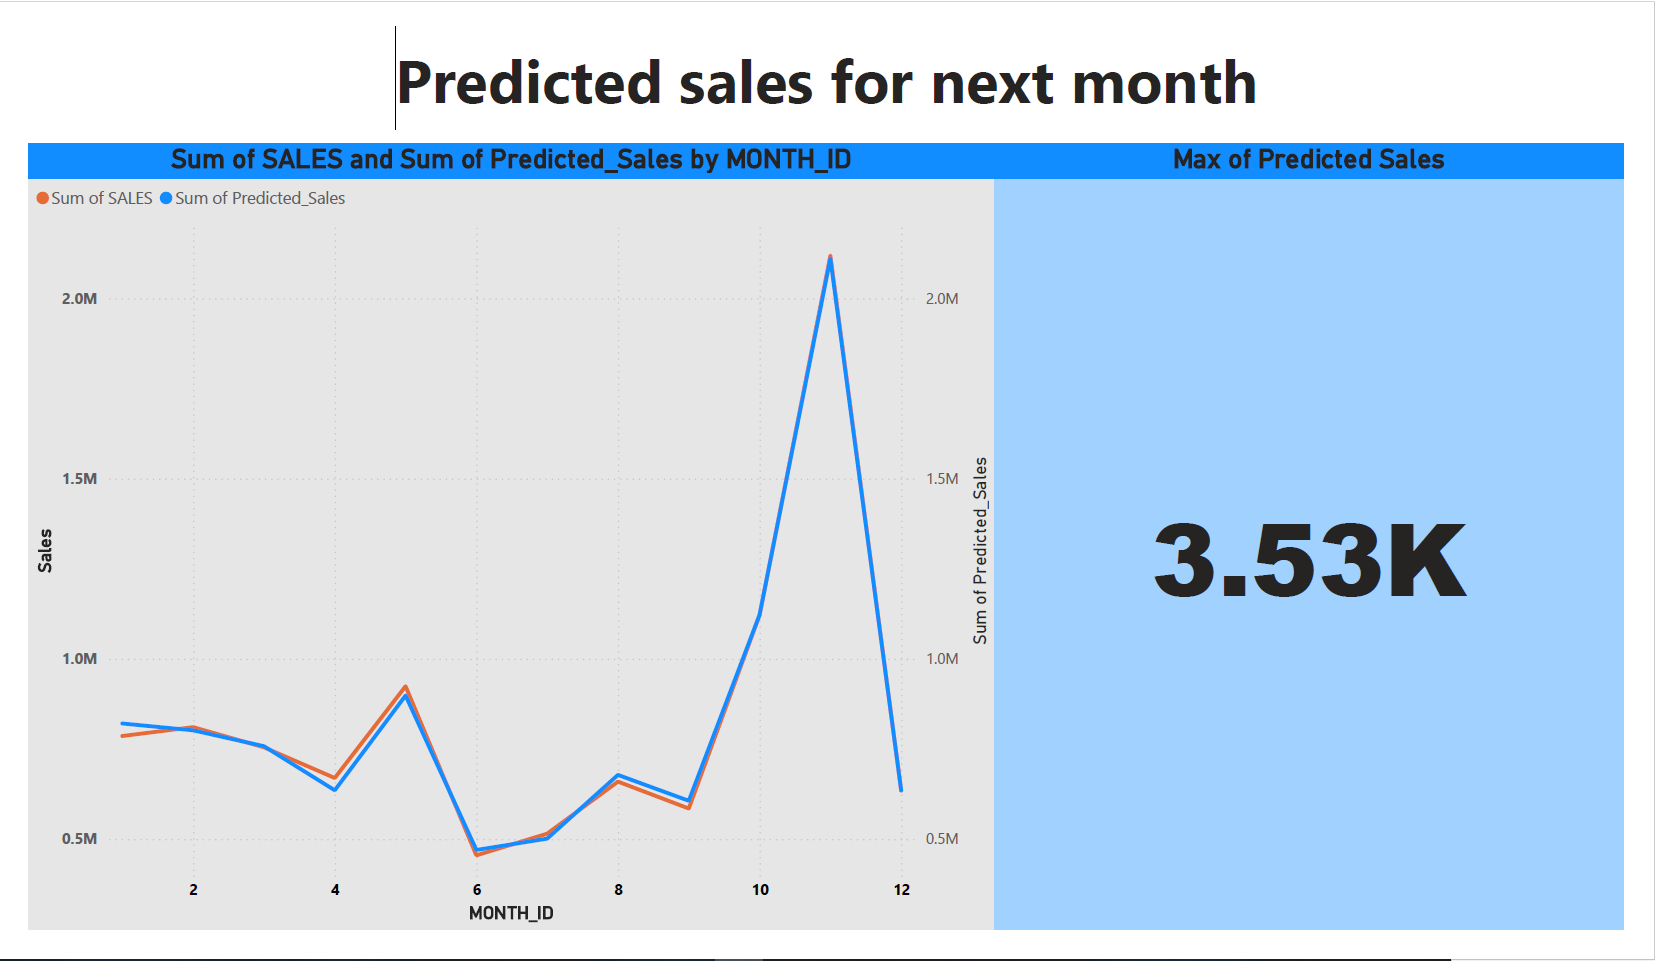

Layout of this report page (visuals, bound fields, positions):
{"tool":"powerbi","page":{"name":"Predicted Sales","canvas":[1280,720],"ordinal":0},"visuals":[{"type":"lineChart","fields":{"Category":["Sheet1.MONTH_ID"],"Y":["Sum(Sheet1.SALES)"],"Y2":["Sum(Sheet1.Predicted_Sales)"]},"box":[0,89.5,775.2,630.3],"z":0},{"type":"card","title":"Max of Predicted Sales","fields":{"Values":["Max(Sheet1.Predicted_Sales)"]},"box":[775.2,89.5,504.8,630.3],"z":1000},{"type":"actionButton","box":[0,0,100,40],"z":1001},{"type":"textbox","box":[0,0,1280,89.5],"z":1002}]}

Visuals, with their boxes in screenshot pixels (x1, y1, x2, y2):
lineChart - Sheet1.MONTH_ID x Sum(Sheet1.SALES): [left=0, top=144, right=976, bottom=948]
"Max of Predicted Sales" card: [left=976, top=144, right=1619, bottom=948]
actionButton: [left=0, top=30, right=115, bottom=81]
textbox: [left=0, top=30, right=1619, bottom=144]
